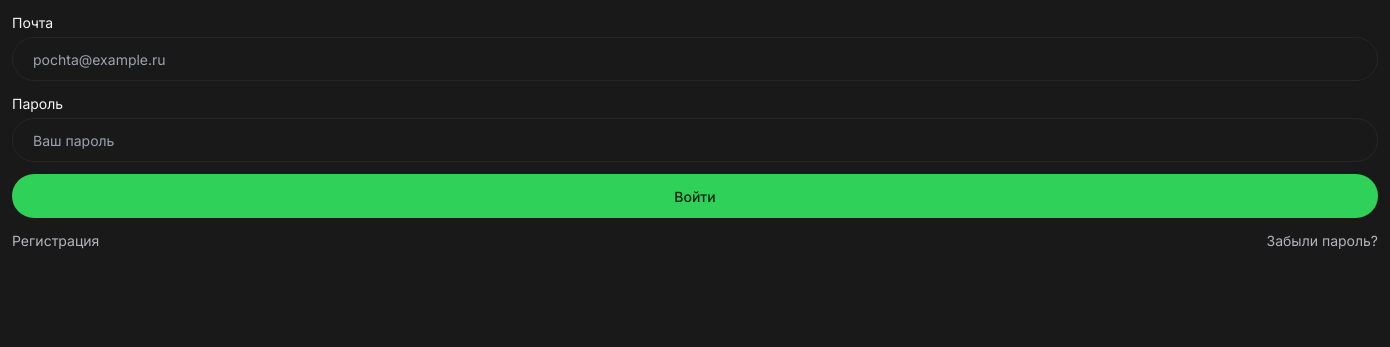
it: EmailAuthForm: регистрация › shows the sent screen after a successful registration
This screenshot has width=1390, height=347.
Click the button "Регистрация" at (56, 240), box [12,230,99,251]
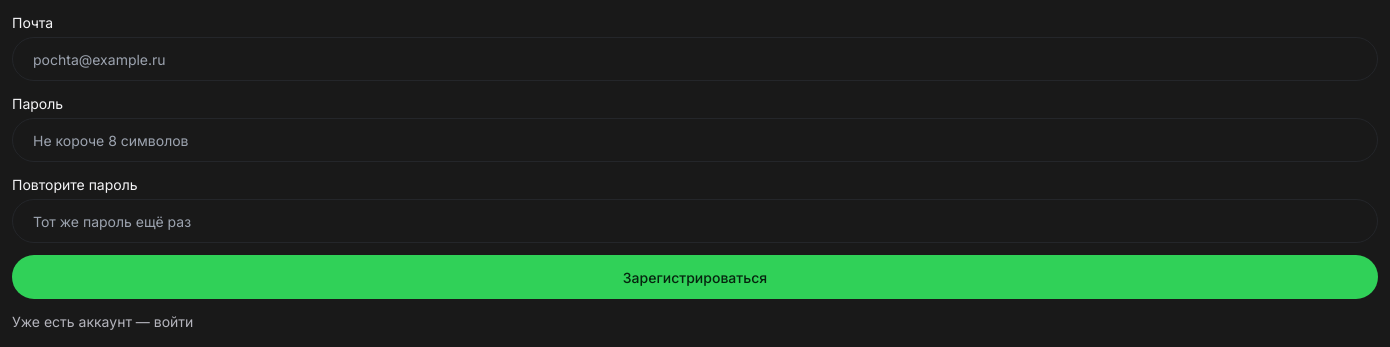
Type "a@ya.ru" into the field labelled "Почта" at (695, 59), box [12,37,1378,81]
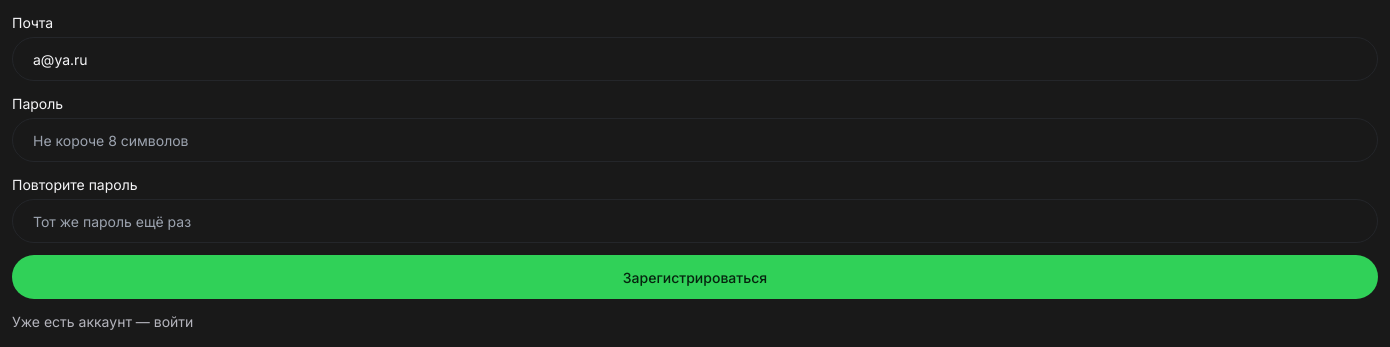
Type "normalnyi-parol" into the password field labelled "Пароль" at (695, 140), box [12,118,1378,162]
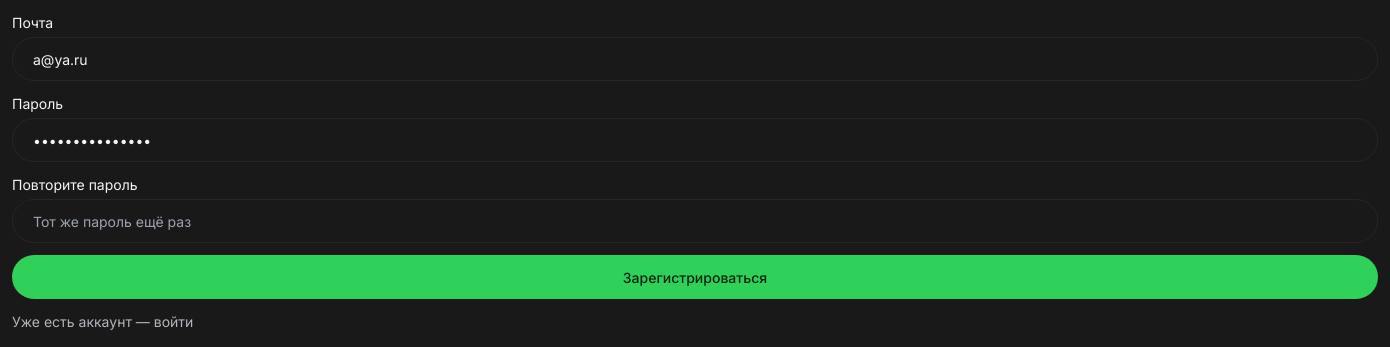
Type "normalnyi-parol" into the password field labelled "Повторите пароль" at (695, 221), box [12,199,1378,243]
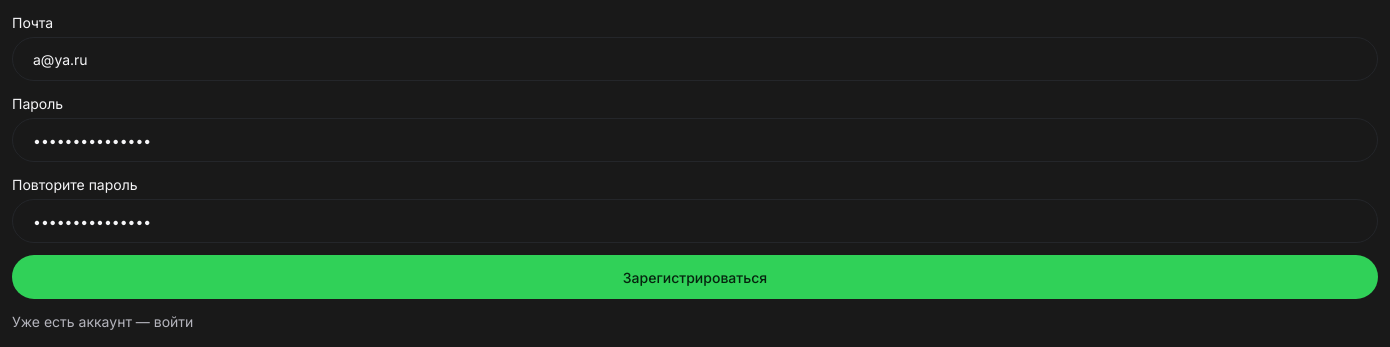
Click the button "Зарегистрироваться" at (695, 277), box [12,255,1378,299]
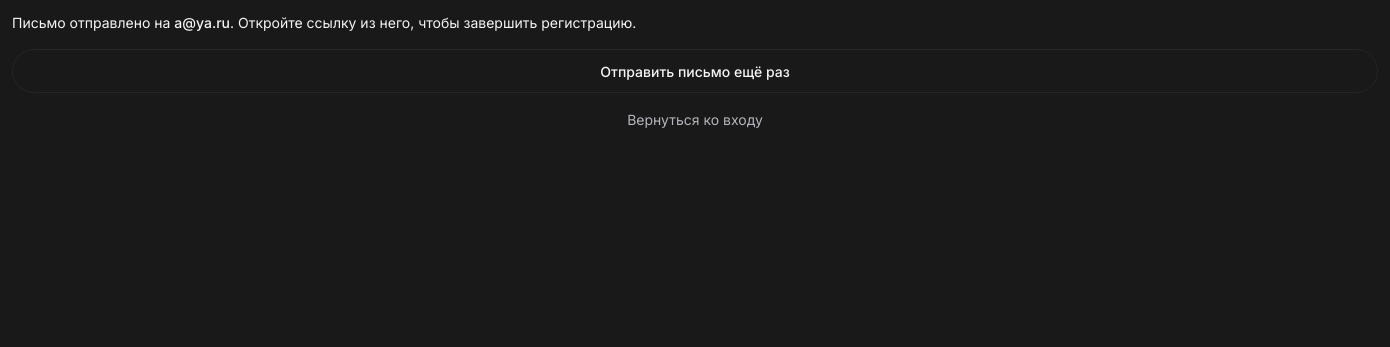
Expected: the text "Письмо отправлено на" is shown, [12,14,174,31]
Expected: the button "Отправить письмо ещё раз" is shown, [12,49,1378,93]
